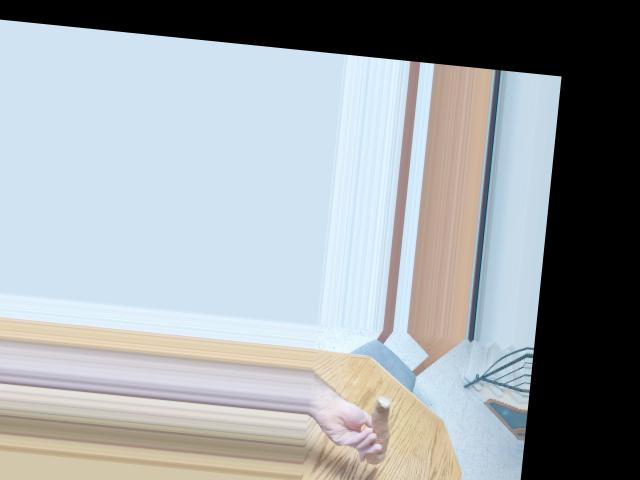sweet_potato: (359, 393, 394, 466)
